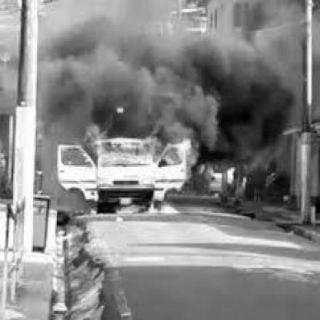Fire: (66, 90, 206, 227)
